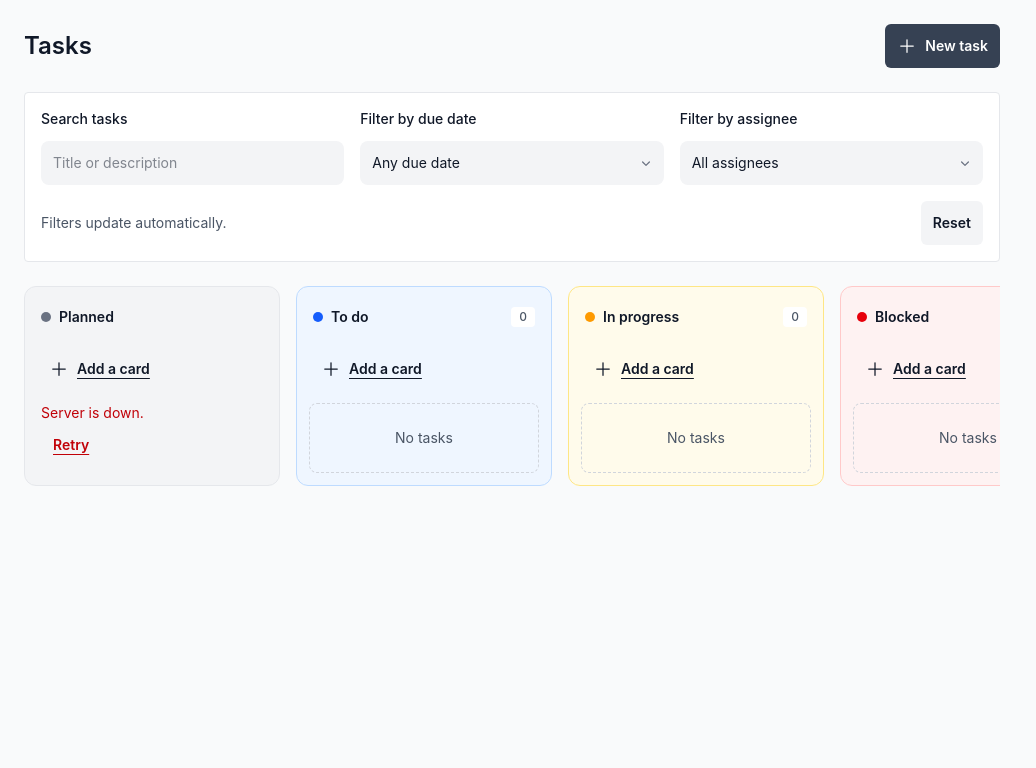
Test: shows a column error and loads again on retry
Expected: the message shows "Server is down.", [41, 404, 144, 421]
Click the button "Retry". click: (71, 445)
box: [41, 423, 101, 467]
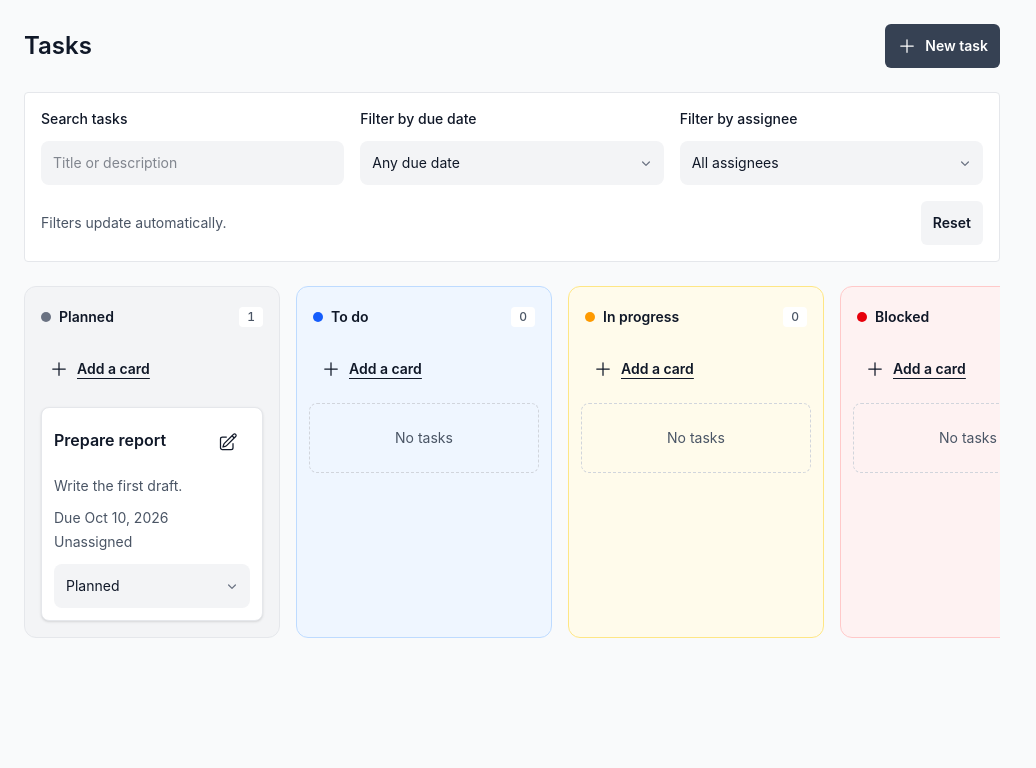
Result: the heading "Prepare report" is shown at [54, 430, 166, 450]
